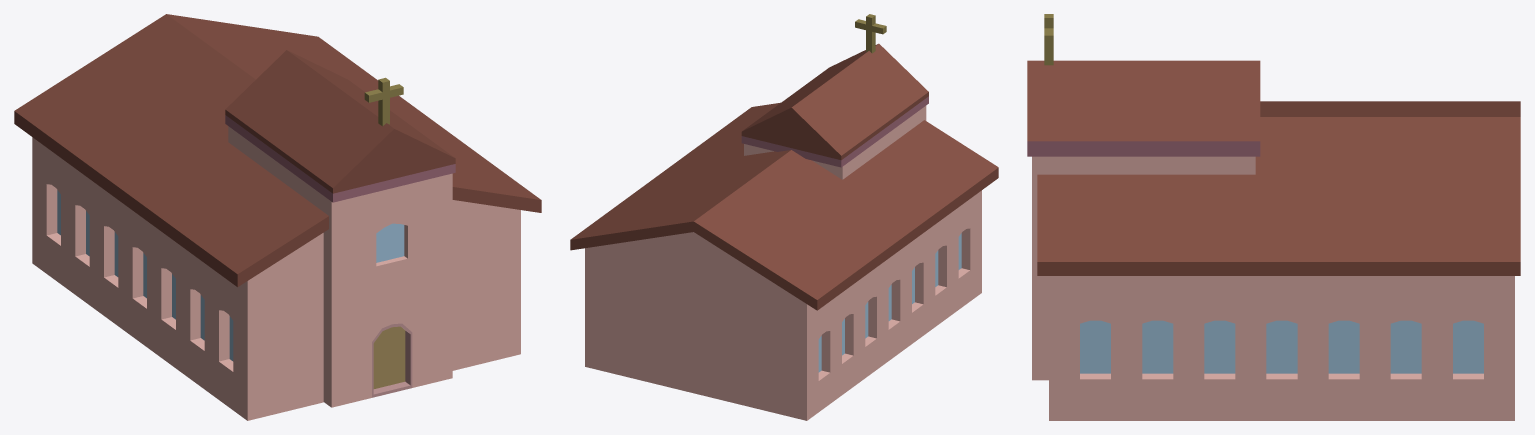
File: edificio_06.fbx
3 renders of one model, left to right at view 1: azimuth 30°, elevation 25°; view 2: azimuth 150°, elevation 25°; view 3: azimuth 270°, elevation 25°, orthographic. The views are drawn at different scales.
Visible parts, largest first — view 1: Cube.014; view 2: Cube.014; view 3: Cube.014.
Part boxes in pixels (left/top/right/bottom): Cube.014: left=14, top=14, right=541, bottom=420; Cube.014: left=570, top=14, right=998, bottom=420; Cube.014: left=1027, top=14, right=1520, bottom=420.
Size of the model in its own units: 3493 by 3374 by 4536.
